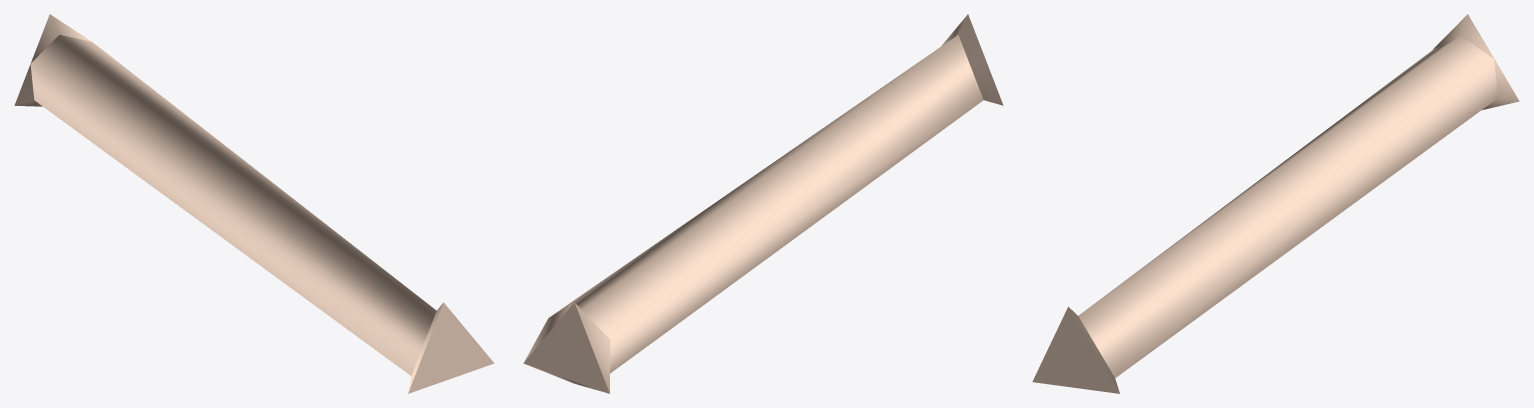
File: Goupille roue_Chaussée.obj
3 views of the same model, side by side, from view 1: azimuth 30°, elevation 25°; view 2: azimuth 150°, elevation 25°; view 3: azimuth 330°, elevation 25° (orthographic).
Parts seen in each view (by area): view 1: Face_1, Face_3, Face_4; view 2: Face_1, Face_5, Face_4, Face_2; view 3: Face_1, Face_3, Face_4.
Part boxes in pixels (bbox=[...]): Face_1: bbox=[30, 34, 436, 375]; Face_3: bbox=[408, 302, 494, 393]; Face_4: bbox=[14, 14, 91, 106]; Face_1: bbox=[551, 35, 983, 373]; Face_5: bbox=[523, 302, 609, 393]; Face_4: bbox=[524, 302, 610, 393]; Face_2: bbox=[941, 14, 1003, 105]; Face_1: bbox=[1078, 36, 1497, 378]; Face_3: bbox=[1032, 307, 1119, 393]; Face_4: bbox=[1432, 14, 1519, 109].
Bounding box in the file's own units: 0.00121 × 0.00119 × 0.0095.
